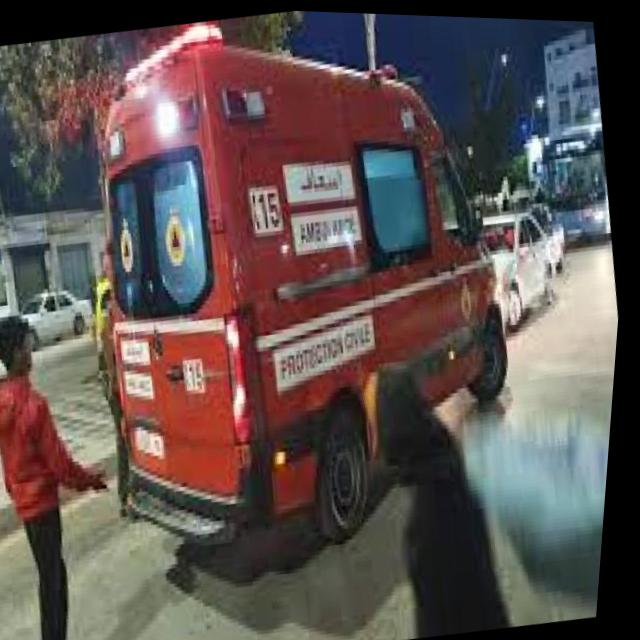ambulance: (41, 2, 579, 611)
